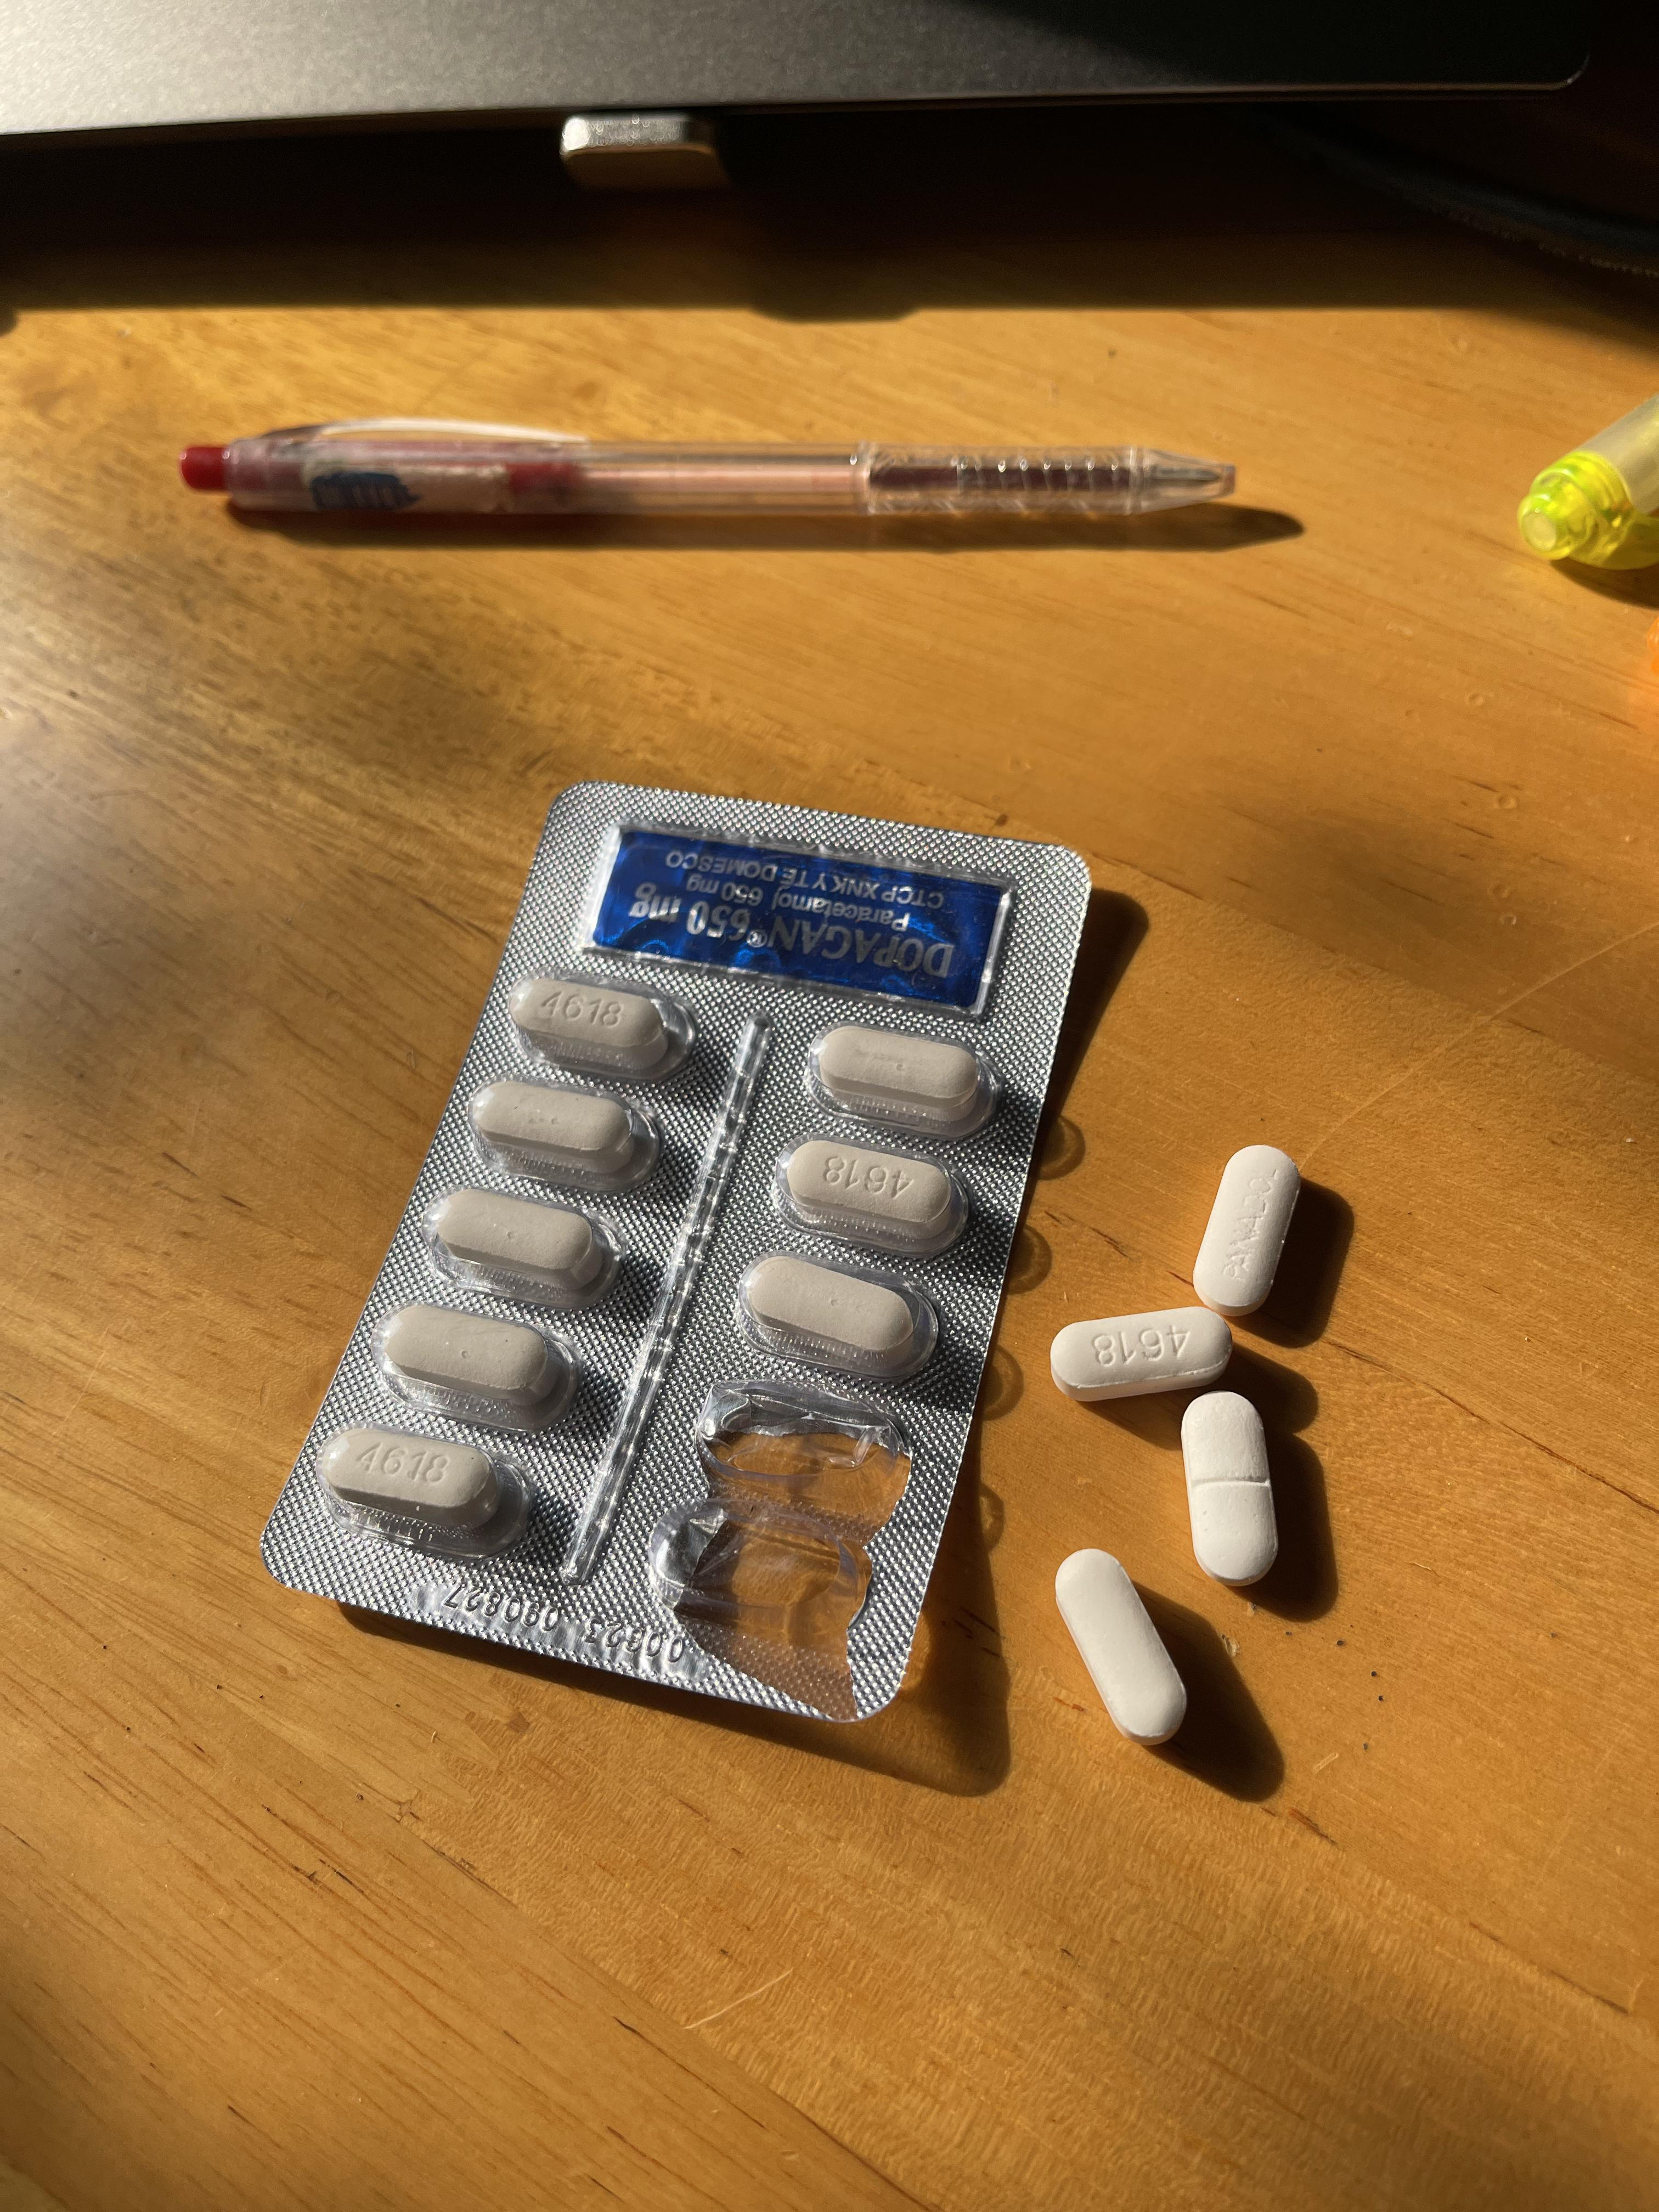Paracetamol_350mg: (1182, 1392, 1277, 1585), (1192, 1144, 1302, 1312)
Paracetamol_500mg: (1054, 1550, 1182, 1745), (735, 1251, 927, 1379), (775, 1134, 967, 1254), (425, 1184, 615, 1303), (378, 1303, 568, 1416), (467, 1075, 653, 1190), (805, 1021, 992, 1136), (509, 974, 681, 1078), (1049, 1305, 1227, 1404), (322, 1428, 497, 1527)
